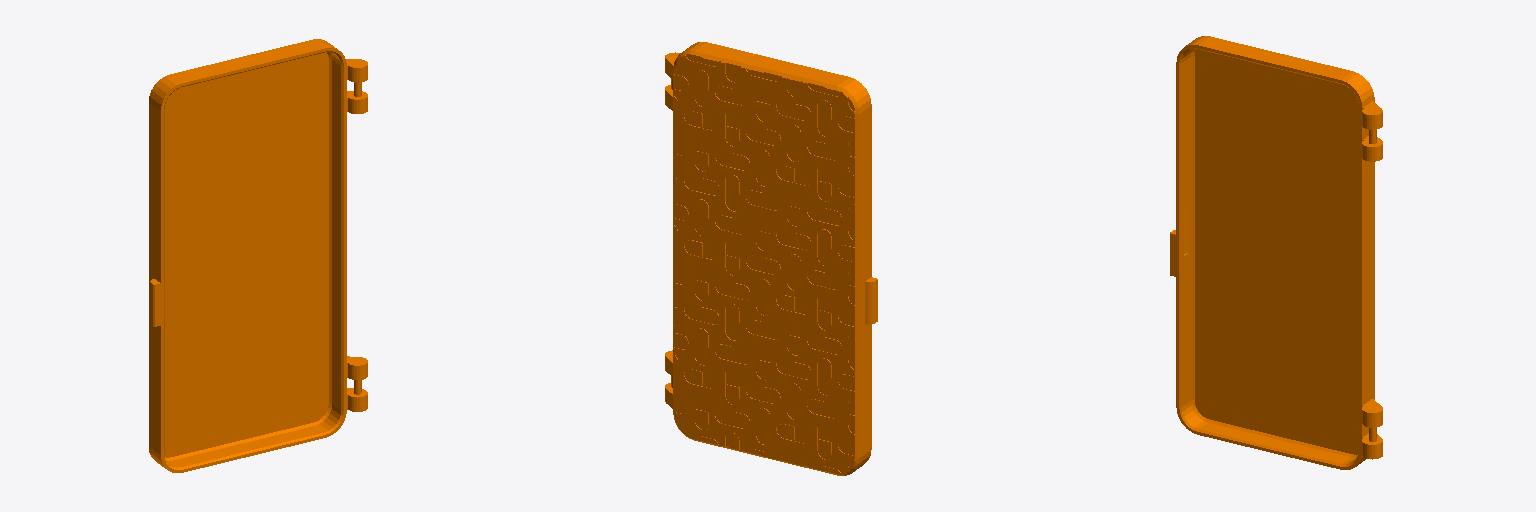
File: download-pillbox-top.obj
The picture shows the model from 3 angles: view 1: azimuth 30°, elevation 25°; view 2: azimuth 150°, elevation 25°; view 3: azimuth 330°, elevation 25°; orthographic projection.
Visible parts, largest first — view 1: Body1; view 2: Body1; view 3: Body1.
Part boxes in pixels (x1,y1,x2,y2): Body1: (149,39,367,472); Body1: (665,42,877,475); Body1: (1170,36,1382,469).
Bounding box in the file's own units: 6.85 × 12 × 1.09.